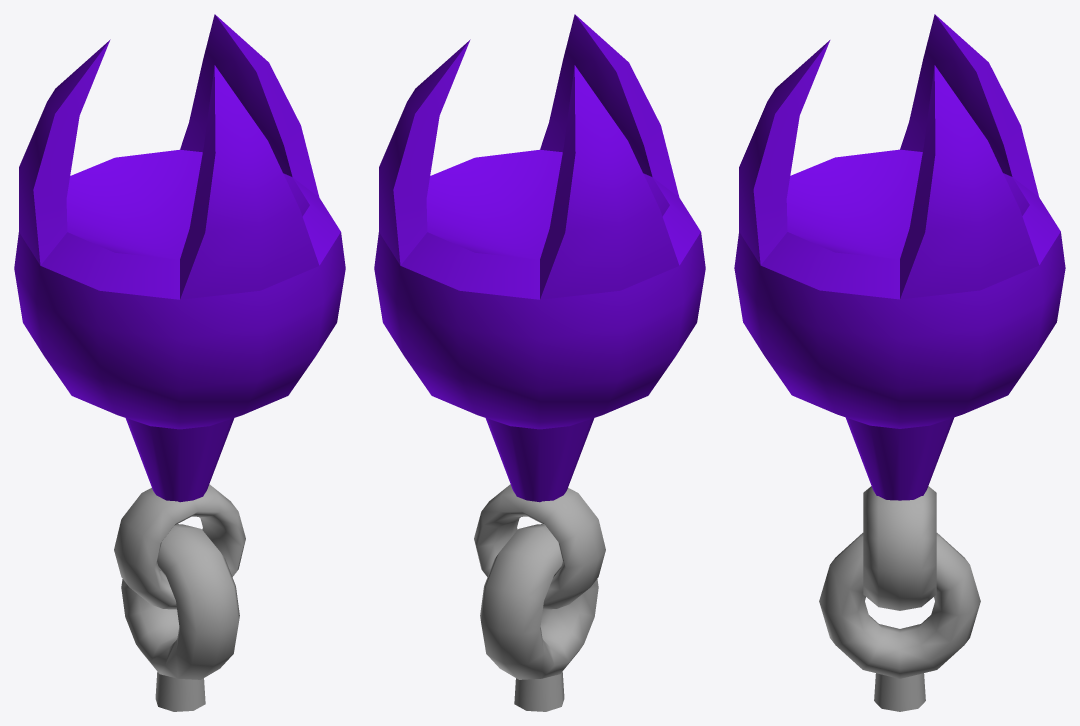
Rendered from latch.fbx.
3 views of the same model, side by side, from view 1: azimuth 30°, elevation 25°; view 2: azimuth 150°, elevation 25°; view 3: azimuth 270°, elevation 25° (orthographic).
Parts seen in each view (by area): view 1: HookLiner.002; view 2: HookLiner.002; view 3: HookLiner.002.
Part boxes in pixels (x1,y1,x2,y2): HookLiner.002: (14,14,345,711); HookLiner.002: (374,14,705,711); HookLiner.002: (734,14,1065,711).
Bounding box in the file's own units: 37.71 × 83.09 × 37.71.
